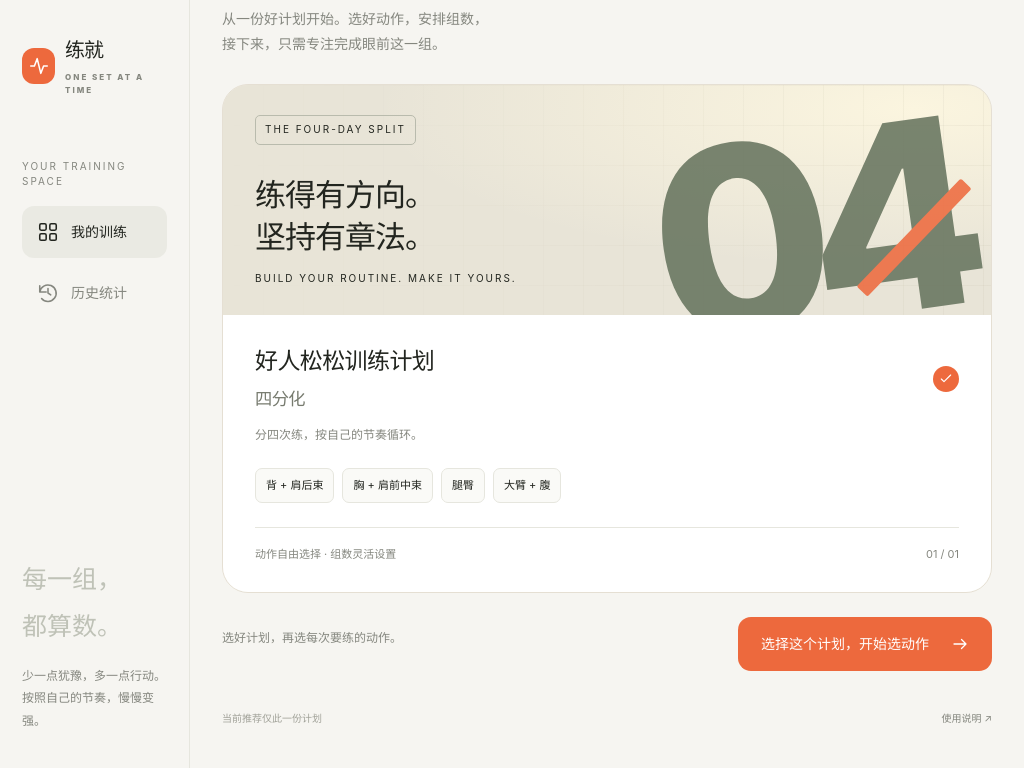
React 页面流程 › 保存失败明确提示，不推进页面或伪造保存结果
(page scrolled)
Click the button "选择这个计划，开始选动作" at {"x": 865, "y": 644}, box [738,616,992,670]
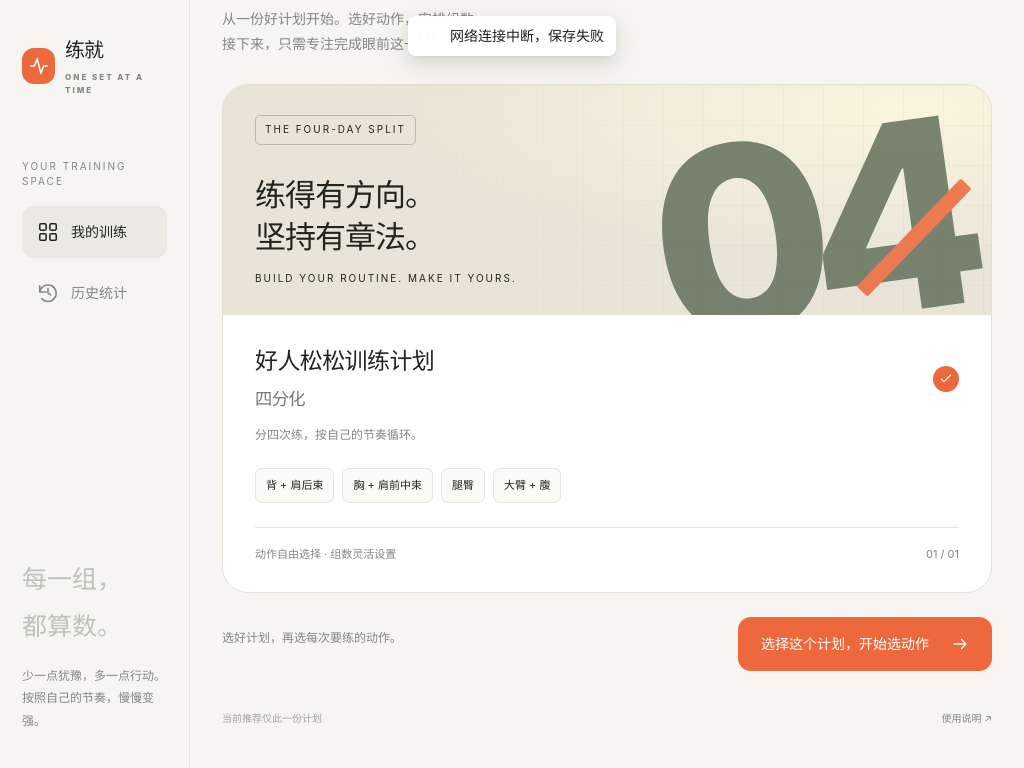
Check: the text "网络连接中断，保存失败" is shown, box [450,25,604,47]
